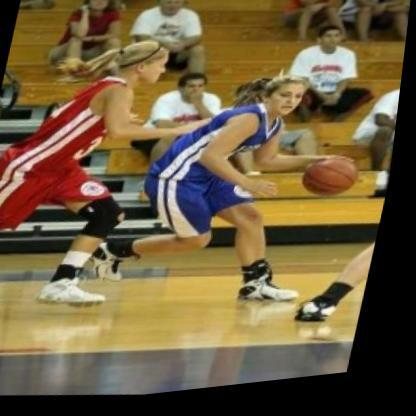basketball: (301, 154, 370, 215)
